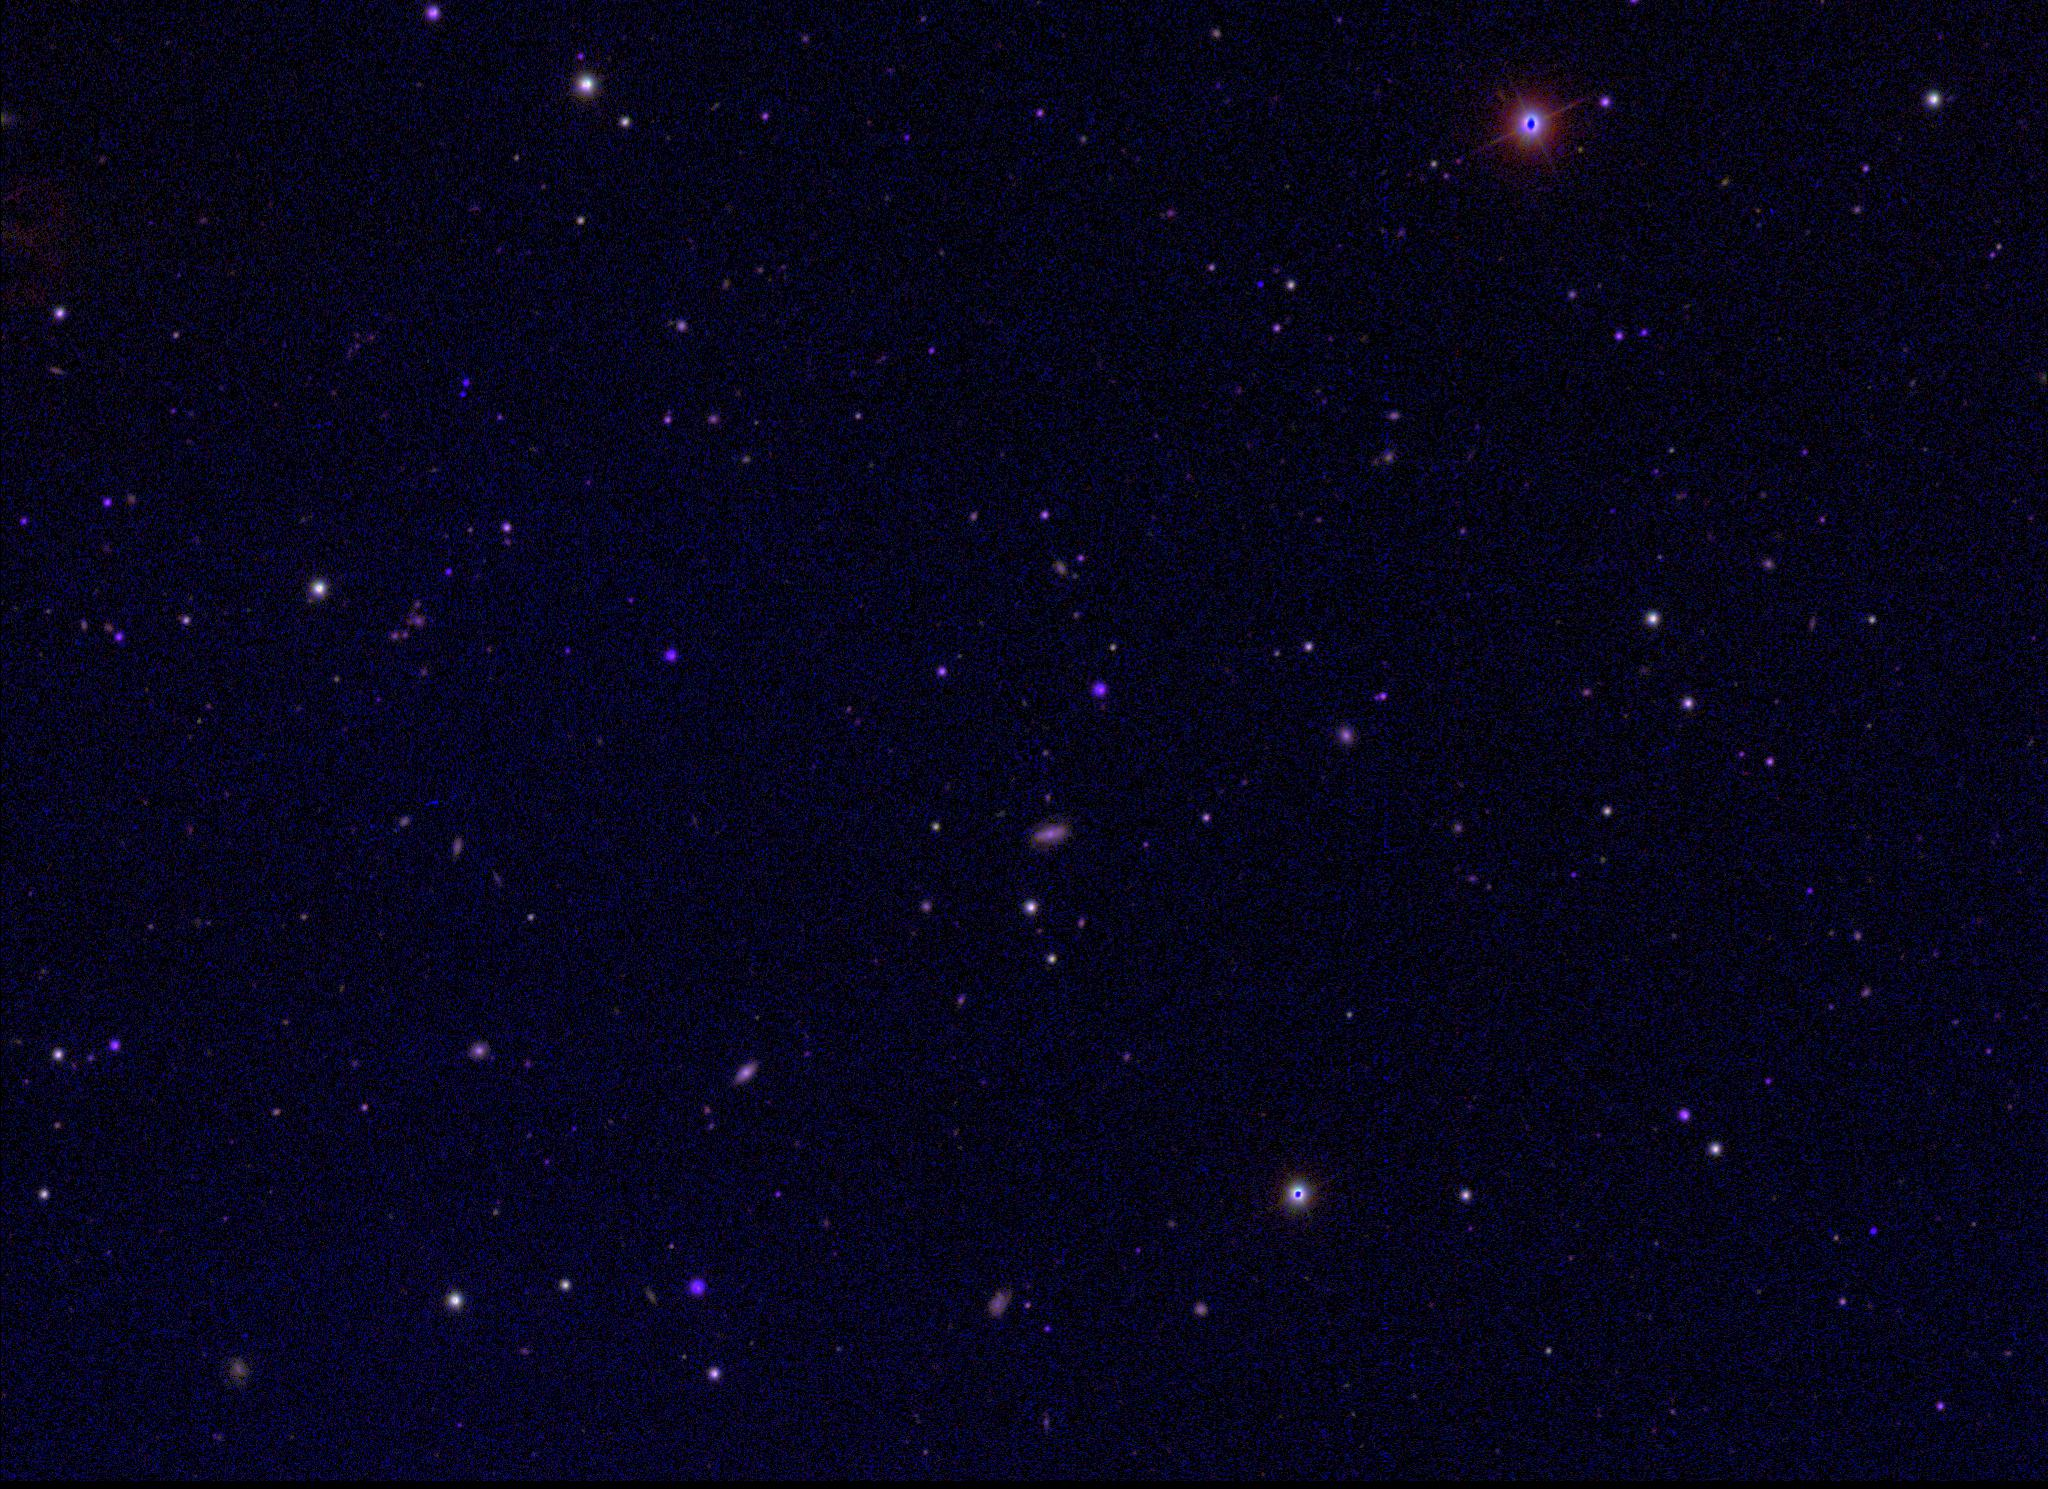L: (1255, 277, 1267, 291)
